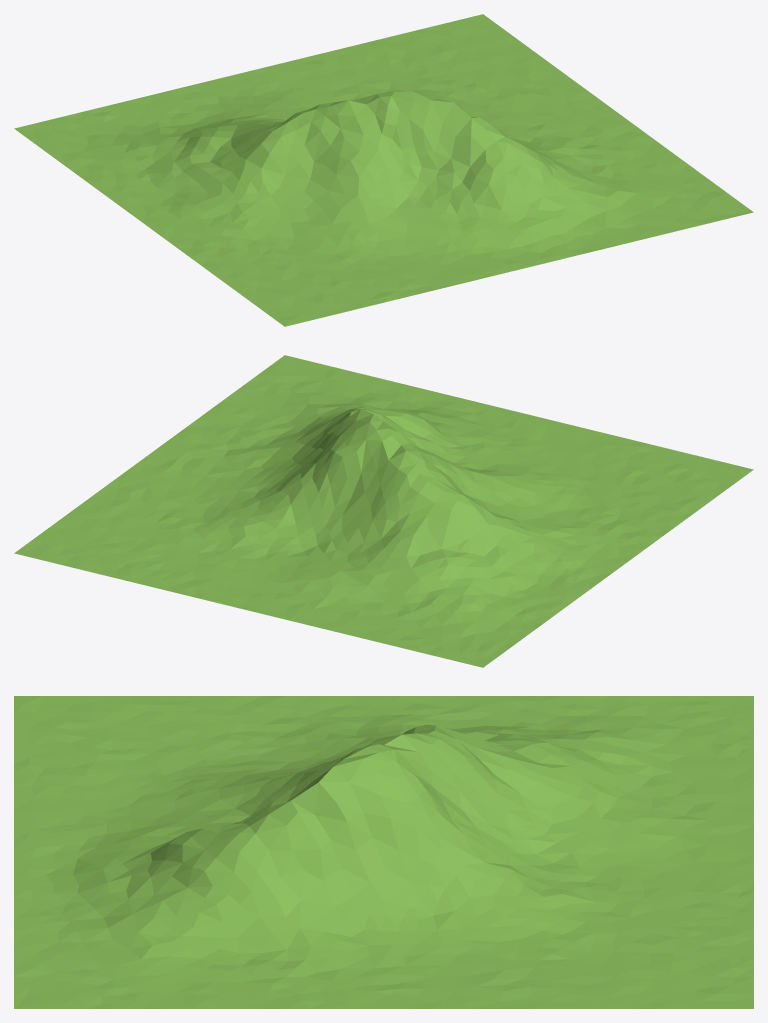
The model's file is MT_Terrain_L_a_43_LOD.fbx.
3 renders of one model, top to bottom at view 1: azimuth 30°, elevation 25°; view 2: azimuth 150°, elevation 25°; view 3: azimuth 270°, elevation 25°, orthographic. The views are drawn at different scales.
Visible parts, largest first — view 1: MT_Terrain_L_a_43_LOD0; view 2: MT_Terrain_L_a_43_LOD0; view 3: MT_Terrain_L_a_43_LOD0.
Part boxes in pixels (<box>): MT_Terrain_L_a_43_LOD0: <box>14,14,753,326</box>; MT_Terrain_L_a_43_LOD0: <box>14,355,753,667</box>; MT_Terrain_L_a_43_LOD0: <box>14,696,753,1008</box>.
Size of what is drawn, in the model's own units: 10000 by 1630 by 10000.
